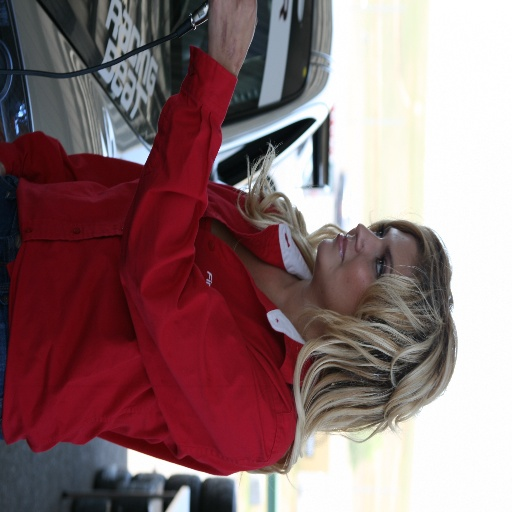hand: (200, 5, 260, 57)
